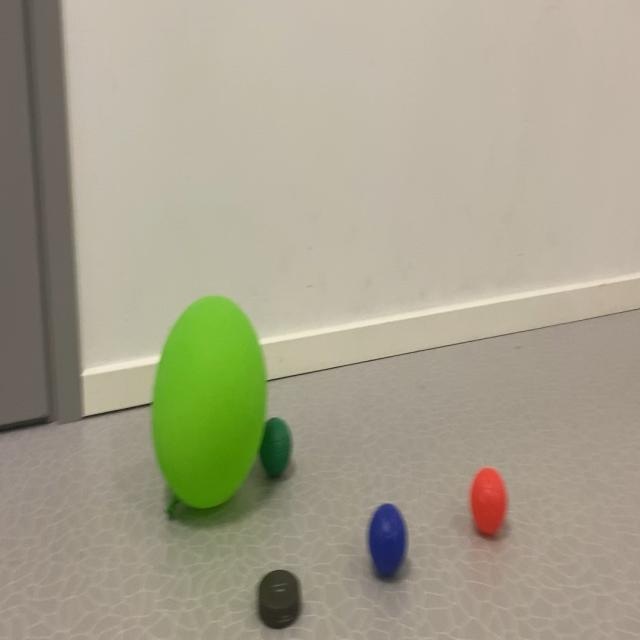blue ball: (360, 506, 410, 578)
green ball: (270, 414, 296, 490)
red ball: (469, 473, 513, 544)
